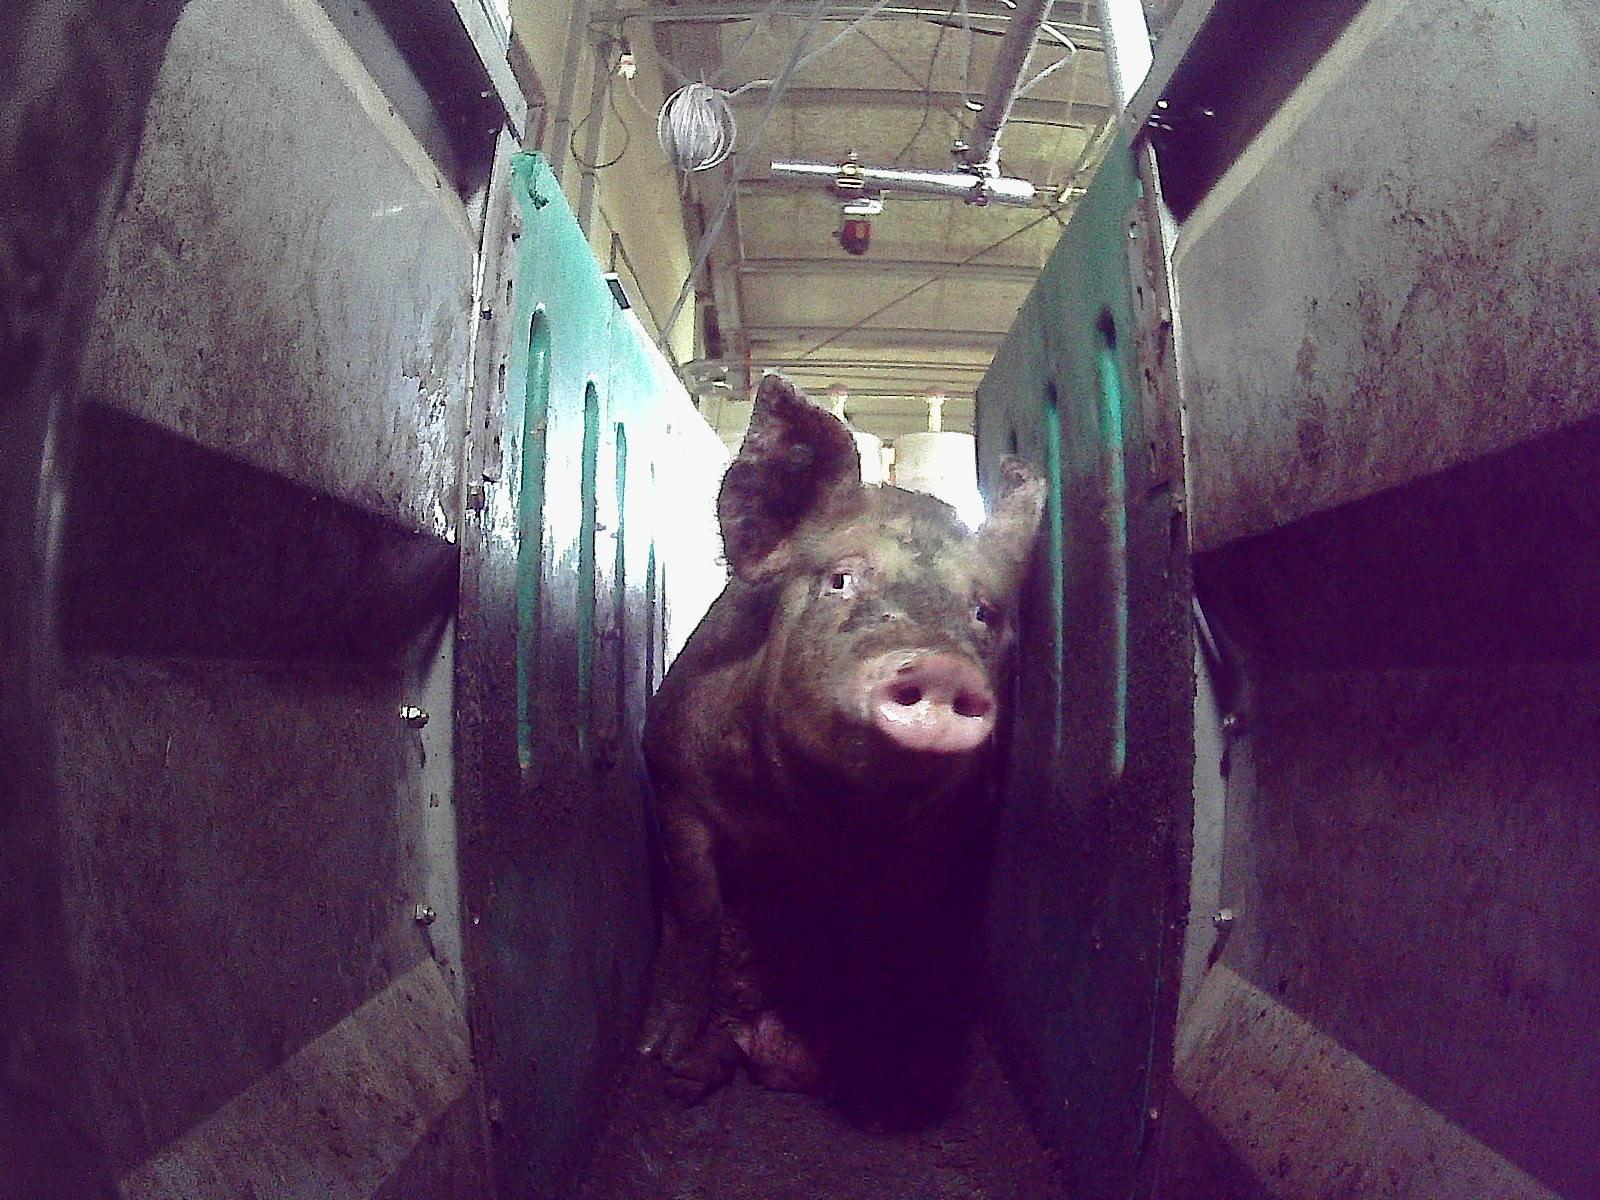Face: (748, 483, 1013, 816)
